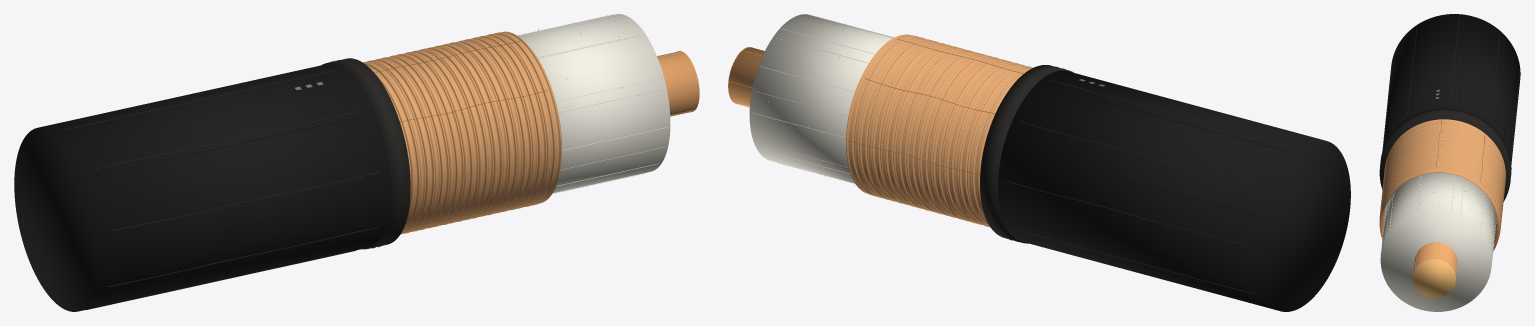
The model's file is rf-lcf78-macro.glb.
3 renders of one model, left to right at view 1: azimuth 30°, elevation 25°; view 2: azimuth 150°, elevation 25°; view 3: azimuth 270°, elevation 25°, orthographic. The views are drawn at different scales.
Visible parts, largest first — view 1: macro hardline jacket body, annular corrugated solid shield, macro foam dielectric exposed core, hardline jacket cut wall, polished solid center conductor, rounded jacket cut lip; view 2: macro hardline jacket body, annular corrugated solid shield, macro foam dielectric exposed core, hardline jacket cut wall, polished solid center conductor, rounded jacket cut lip; view 3: macro hardline jacket body, macro foam dielectric exposed core, annular corrugated solid shield, hardline jacket cut wall, polished conductor cut face glow, polished solid center conductor, rounded jacket cut lip.
Boxes of the visible parts, x1=… form: macro hardline jacket body: x1=14, y1=63, x2=390, y2=311; annular corrugated solid shield: x1=363, y1=31, x2=561, y2=234; macro foam dielectric exposed core: x1=518, y1=14, x2=670, y2=193; hardline jacket cut wall: x1=321, y1=58, x2=410, y2=249; polished solid center conductor: x1=657, y1=51, x2=698, y2=116; rounded jacket cut lip: x1=331, y1=60, x2=401, y2=248; macro hardline jacket body: x1=998, y1=70, x2=1350, y2=311; annular corrugated solid shield: x1=846, y1=34, x2=1032, y2=226; macro foam dielectric exposed core: x1=749, y1=14, x2=893, y2=183; hardline jacket cut wall: x1=980, y1=65, x2=1073, y2=243; polished solid center conductor: x1=728, y1=47, x2=764, y2=106; rounded jacket cut lip: x1=988, y1=66, x2=1065, y2=241; macro hardline jacket body: x1=1382, y1=14, x2=1520, y2=163; macro foam dielectric exposed core: x1=1380, y1=173, x2=1496, y2=311; annular corrugated solid shield: x1=1379, y1=119, x2=1505, y2=250; hardline jacket cut wall: x1=1379, y1=108, x2=1511, y2=201; polished conductor cut face glow: x1=1413, y1=259, x2=1455, y2=298; polished solid center conductor: x1=1413, y1=242, x2=1457, y2=276; rounded jacket cut lip: x1=1380, y1=110, x2=1511, y2=169.
Size of the model in its own units: 19.07 by 5.13 by 5.48.
